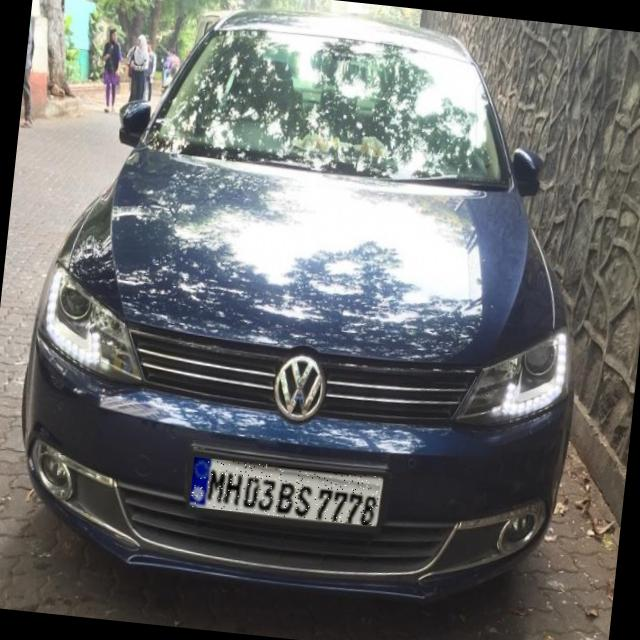Plate: (190, 458, 382, 527)
